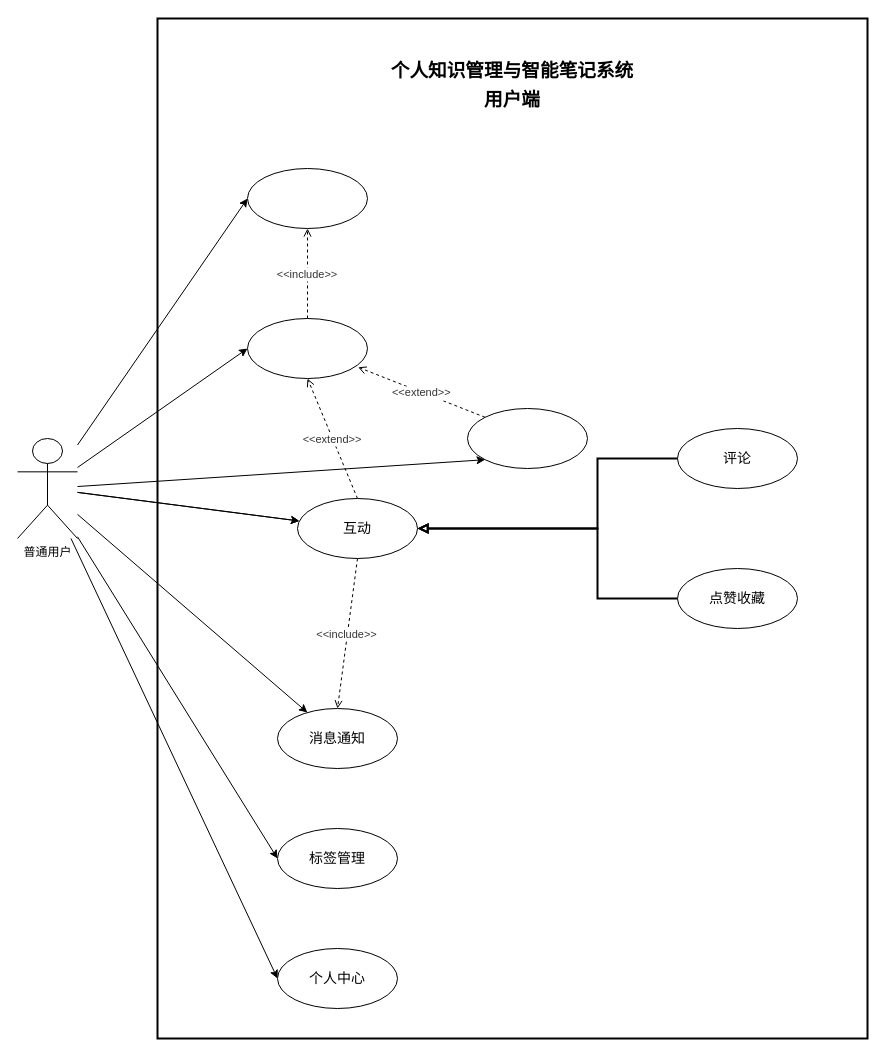
Image size: 886x1056. Some labels were removed from this diagram. The box of each missing label's shape, as (x1, y1, x2, y2) in pixels:
AI辅助写作: (466, 408, 588, 468)
登录: (246, 168, 368, 228)
笔记管理: (246, 318, 368, 378)
